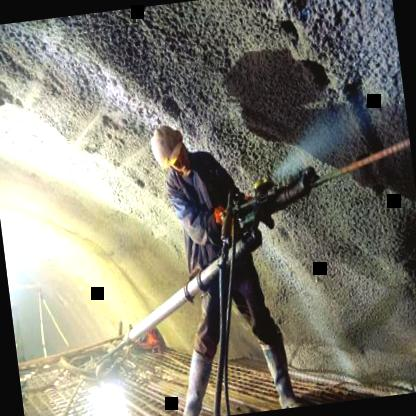helmet: (148, 122, 192, 178)
